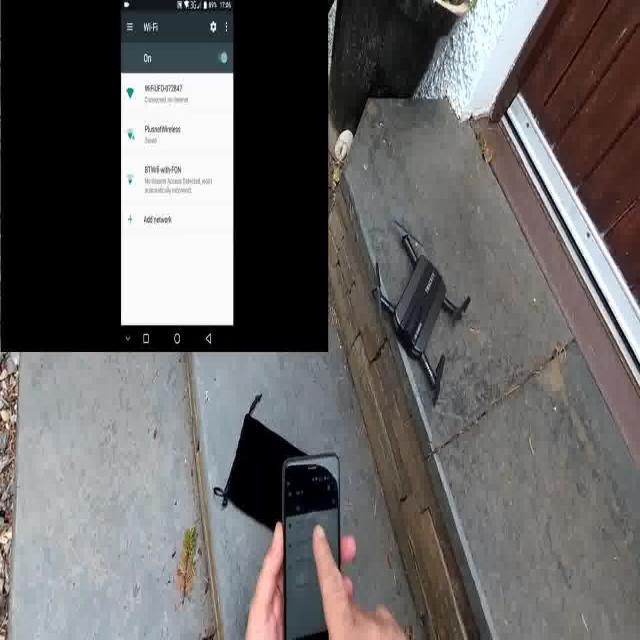drone: (370, 218, 472, 408)
